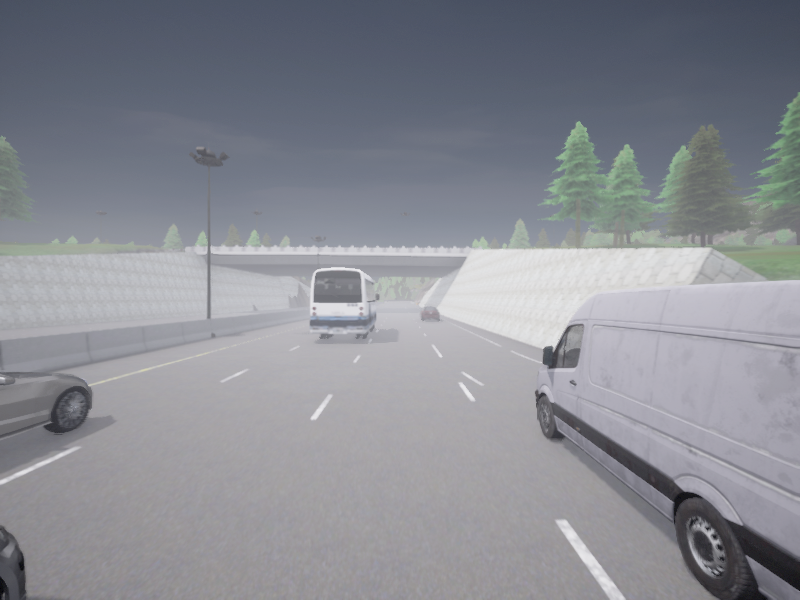vehicle: (535, 280, 799, 599), (0, 372, 92, 440), (310, 268, 379, 337), (0, 523, 26, 599), (420, 306, 439, 320)
